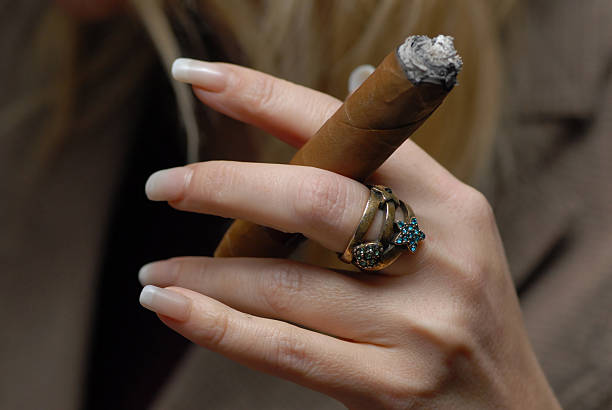cigarette: (211, 35, 463, 262)
